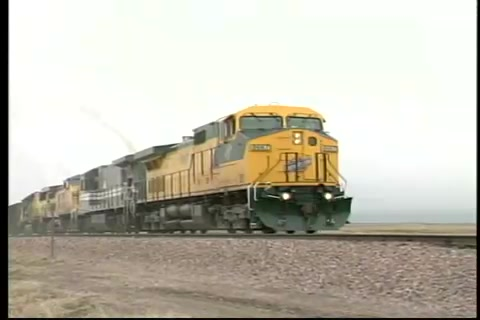train: (11, 102, 354, 238)
